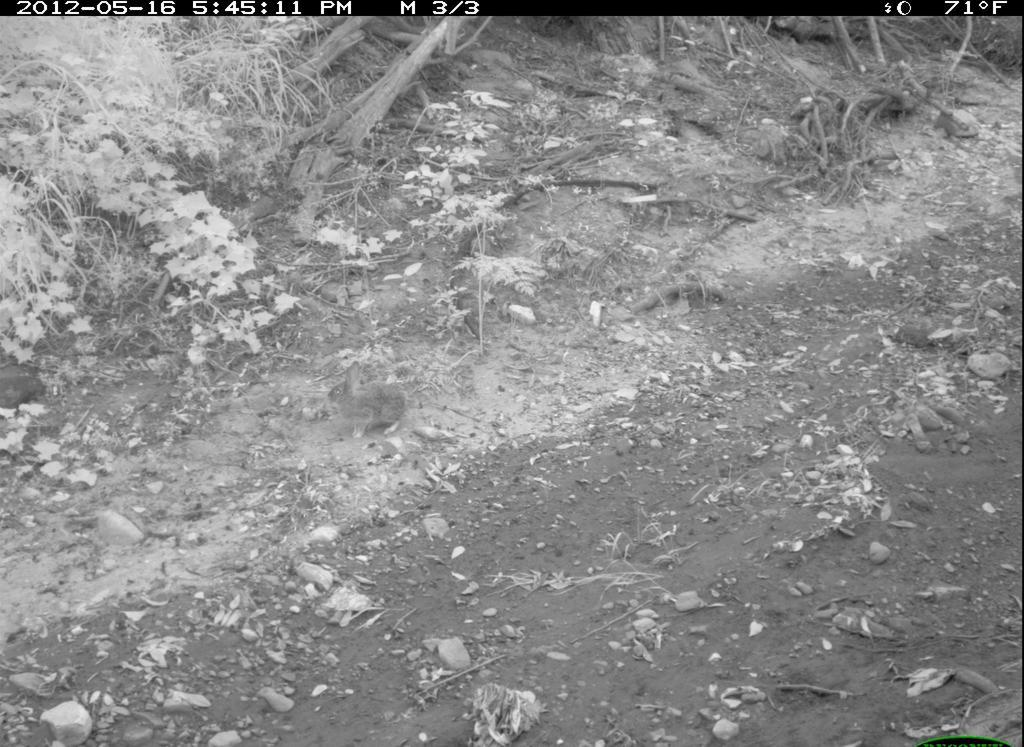rabbit: (322, 358, 431, 450)
